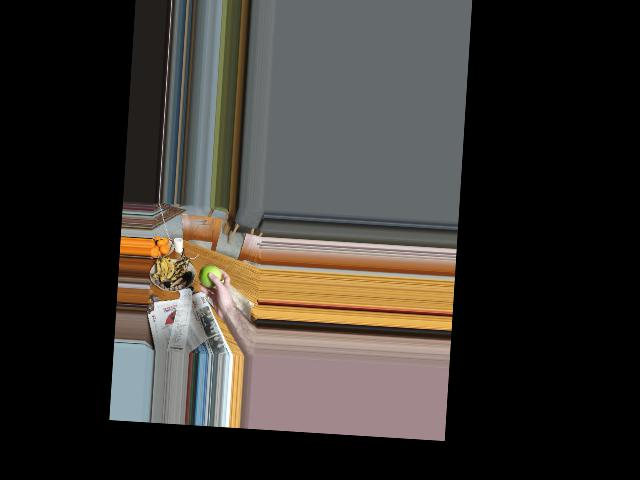apple: (198, 261, 222, 290)
